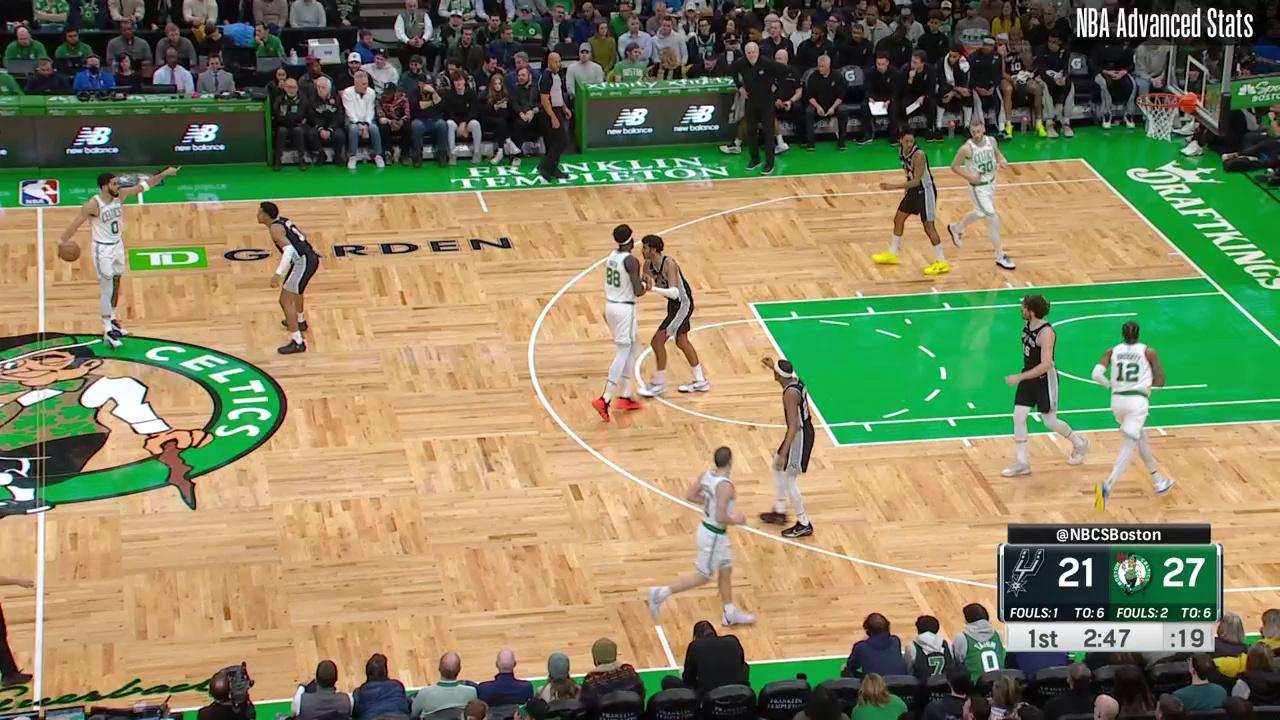3_sx: (1096, 174, 1108, 184)
b_sx: (1076, 153, 1088, 165)
free_adx: (831, 440, 842, 451)
free_asx: (745, 299, 758, 311)
free_bsx: (1201, 271, 1212, 282)
half_sx: (29, 194, 53, 219)
mid_dx: (652, 620, 665, 633)
mid_sx: (479, 206, 493, 218)
referee: (535, 49, 576, 182)
team: (60, 167, 183, 348), (645, 446, 757, 628), (1092, 321, 1179, 511), (590, 221, 643, 422), (950, 119, 1015, 271)
team1: (1004, 294, 1090, 478), (639, 233, 709, 397), (874, 131, 951, 273), (760, 353, 817, 539), (253, 199, 320, 354)
timer: (1078, 620, 1134, 654)
